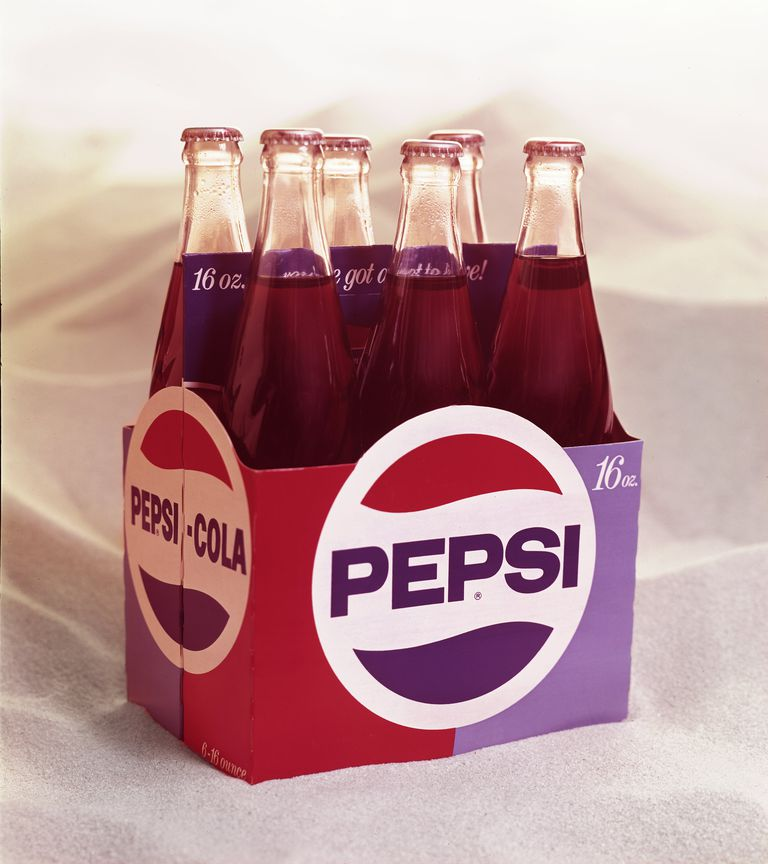pepsi: (311, 403, 597, 732), (311, 403, 597, 707), (341, 403, 597, 707), (341, 419, 597, 707), (126, 385, 249, 675)
